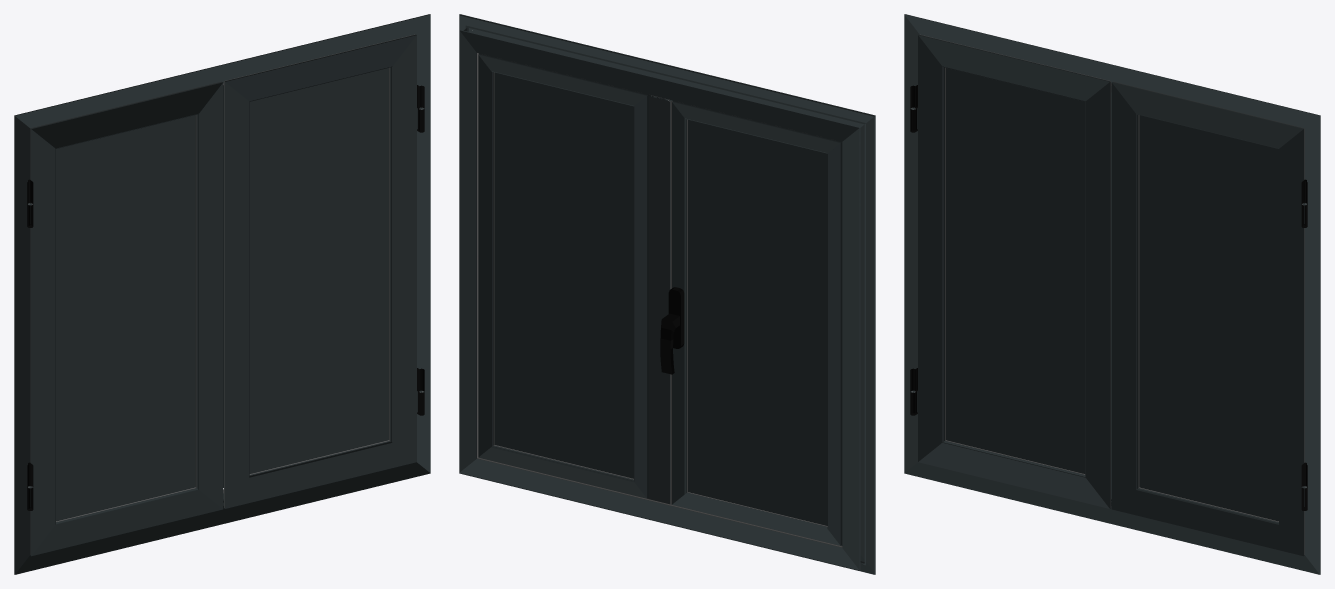
3 views of the same model, side by side, from view 1: azimuth 30°, elevation 25°; view 2: azimuth 150°, elevation 25°; view 3: azimuth 330°, elevation 25° (orthographic).
Parts seen in each view (by area): view 1: painel, painel_2, ouvrant, ouvrant_2, 2folhas; view 2: painel, painel_2, 2folhas, ouvrant, ouvrant_2, muleta, puxador; view 3: painel_2, painel, ouvrant, ouvrant_2, 2folhas.
Boxes of the visible parts, left/top/right/bottom form: painel: left=56, top=115, right=196, bottom=521; painel_2: left=249, top=67, right=389, bottom=474; ouvrant: left=223, top=34, right=424, bottom=508; ouvrant_2: left=27, top=81, right=223, bottom=556; 2folhas: left=14, top=14, right=430, bottom=574; painel: left=687, top=119, right=827, bottom=526; painel_2: left=493, top=72, right=633, bottom=479; 2folhas: left=459, top=14, right=875, bottom=574; ouvrant: left=478, top=53, right=672, bottom=504; ouvrant_2: left=670, top=100, right=842, bottom=545; muleta: left=660, top=313, right=679, bottom=374; puxador: left=668, top=287, right=684, bottom=348; painel_2: left=1138, top=115, right=1278, bottom=521; painel: left=945, top=67, right=1085, bottom=474; ouvrant: left=1111, top=81, right=1307, bottom=556; ouvrant_2: left=910, top=34, right=1110, bottom=508; 2folhas: left=904, top=14, right=1320, bottom=574.
Bounding box in the file's own units: 100 × 105 × 10.69.
Materials: 1 (1 with a texture image).
